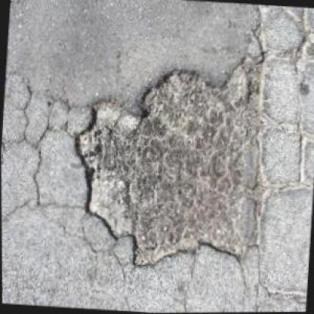Hueco: (63, 56, 272, 278)
